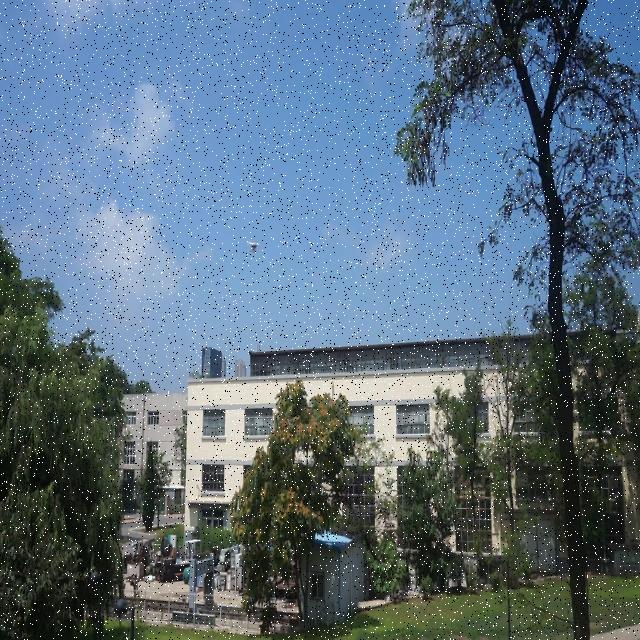UAV: (247, 242, 260, 254)
